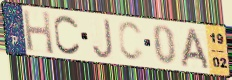0: (151, 23, 179, 67)
A: (179, 26, 212, 72)
C: (52, 13, 82, 57), (117, 20, 146, 63)
H: (21, 8, 56, 57)
J: (91, 17, 115, 61)
